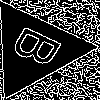B: (9, 24, 73, 75)
